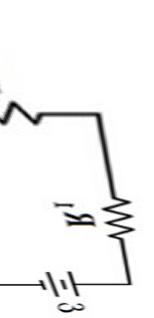resistor: (99, 183, 141, 250)
